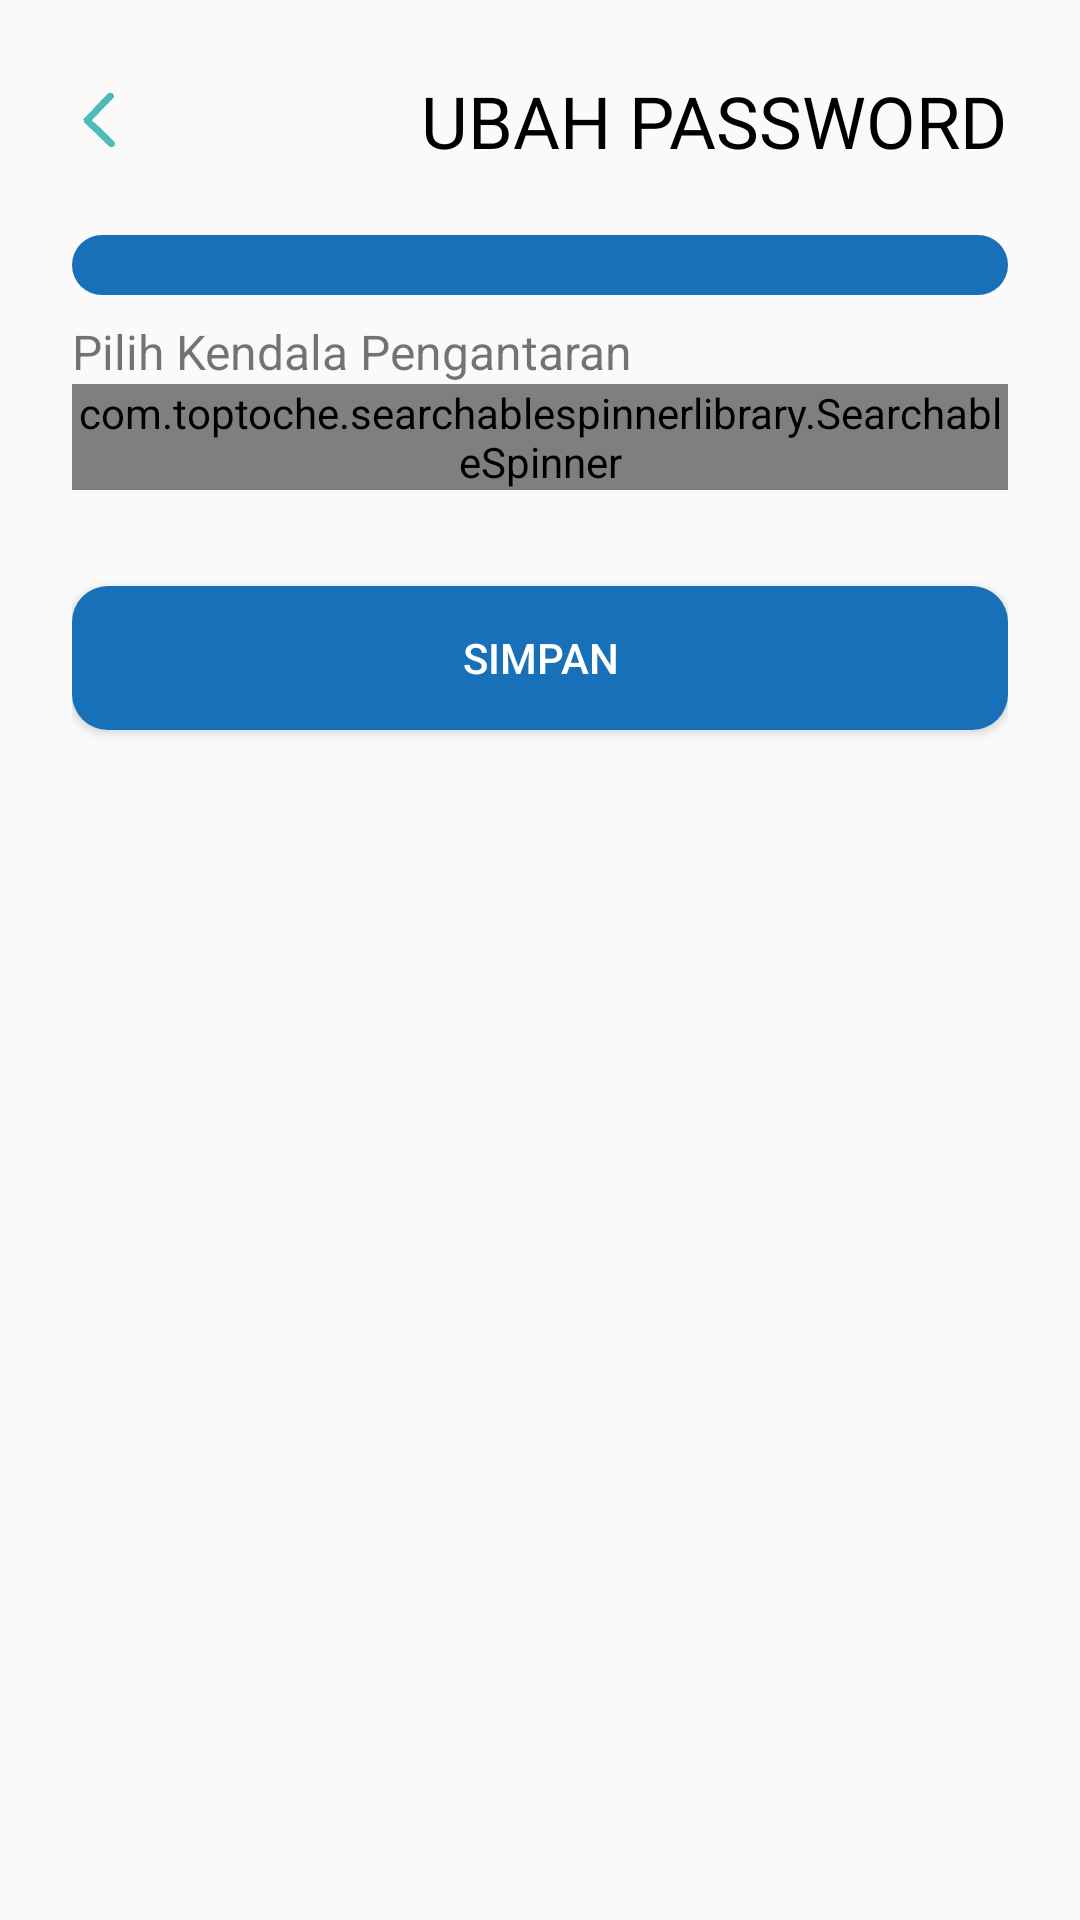

Icon click points for this 1080px×1920px phone screenshot, format (x=x, y=y):
back: (x=99, y=120)
